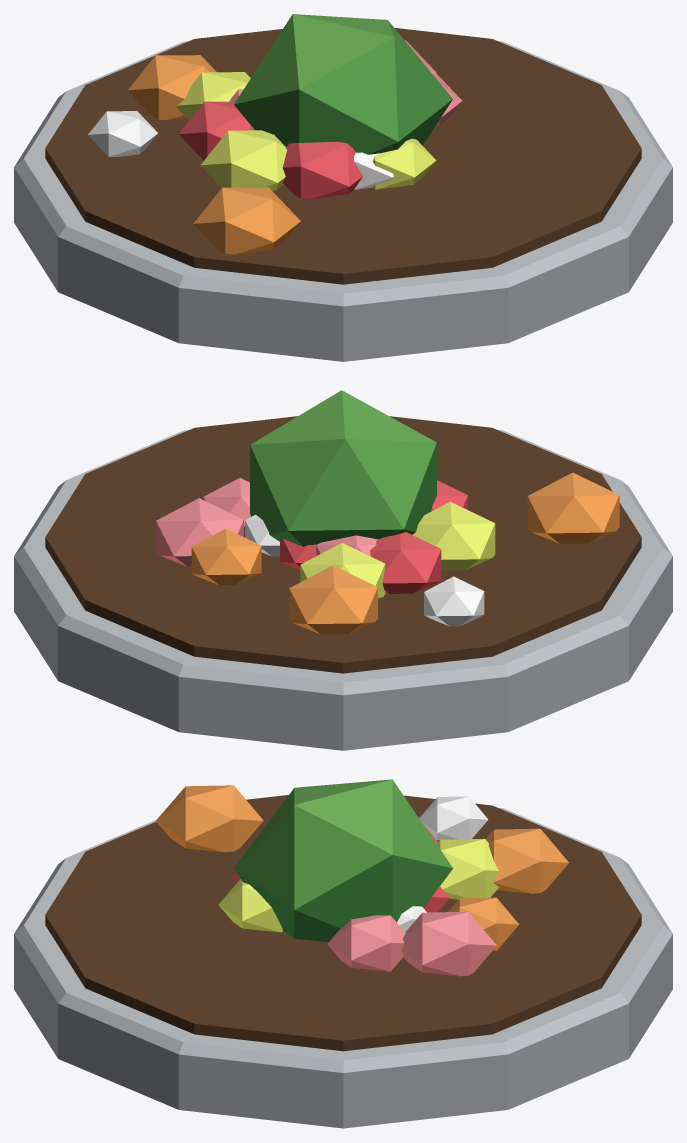
The model's file is FlowerBed_1.glb.
3 renders of one model, top to bottom at view 1: azimuth 30°, elevation 25°; view 2: azimuth 150°, elevation 25°; view 3: azimuth 270°, elevation 25°, orthographic.
Visible parts, largest first — view 1: FlowerBed_1; view 2: FlowerBed_1; view 3: FlowerBed_1.
Boxes of the visible parts, box(x1,y1,x2,y2) form: FlowerBed_1: box(14, 14, 672, 361); FlowerBed_1: box(14, 390, 672, 750); FlowerBed_1: box(14, 779, 672, 1128).
Size of the model in its own units: 8.4 by 2.77 by 8.4.
1 material, 1 textured.
